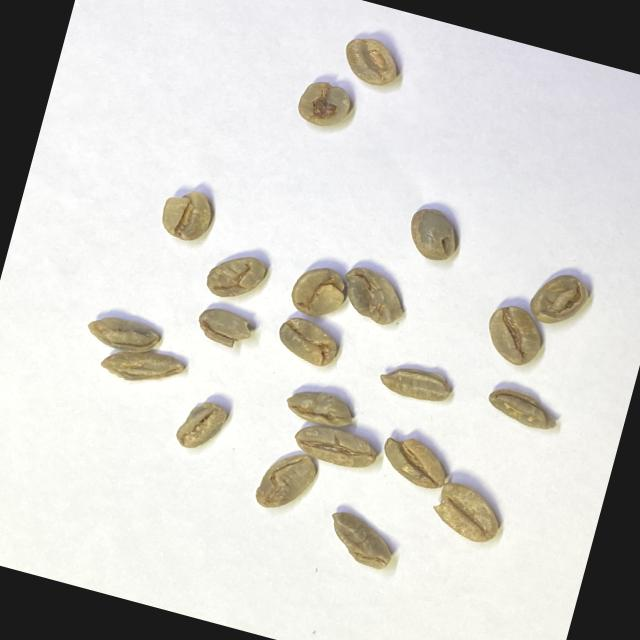bad: (333, 260, 414, 332), (426, 478, 508, 548), (288, 416, 382, 476), (250, 442, 321, 520), (320, 507, 400, 574), (96, 338, 186, 396), (374, 430, 455, 494), (524, 266, 594, 334), (285, 258, 354, 325), (201, 245, 270, 308), (482, 382, 564, 435), (374, 357, 457, 409), (401, 202, 466, 268), (82, 308, 164, 360), (272, 312, 344, 371), (154, 182, 218, 248), (336, 32, 406, 92), (280, 382, 358, 433), (171, 395, 231, 458), (293, 74, 356, 134), (191, 302, 259, 354)
good: (478, 299, 550, 372)
